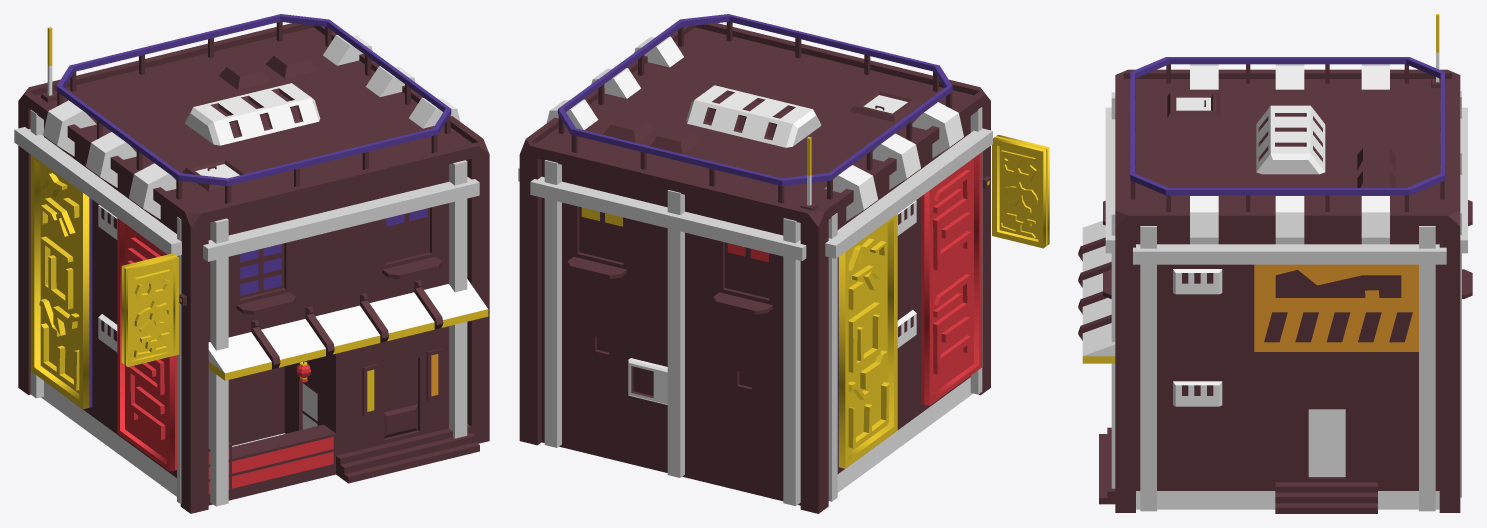
Rendered from ShopCyber.fbx.
The picture shows the model from 3 angles, left to right: view 1: azimuth 30°, elevation 25°; view 2: azimuth 150°, elevation 25°; view 3: azimuth 270°, elevation 25°; orthographic projection.
Parts seen in each view (by area): view 1: scifi-building-shop, scifi-building-shop.009, Cube.005, scifi-building-shop.001, scifi-building-shop.004, scifi-building-shop.003, scifi-building-shop.002, scifi-building-shop.006, scifi-building-shop.005, scifi-building-shop.007, scifi-building-shop.008; view 2: scifi-building-shop.009, scifi-building-shop, Cube.005, scifi-building-shop.004, scifi-building-shop.001, scifi-building-shop.003, scifi-building-shop.005, scifi-building-shop.007, scifi-building-shop.006, scifi-building-shop.008; view 3: scifi-building-shop.009, scifi-building-shop, Cube.005, scifi-building-shop.001, scifi-building-shop.002.
Part boxes in pixels (x1,y1,x2,y2): scifi-building-shop: (18,22,489,513); scifi-building-shop.009: (18,27,489,477); Cube.005: (14,110,479,506); scifi-building-shop.001: (47,14,451,185); scifi-building-shop.004: (39,173,165,439); scifi-building-shop.003: (30,155,89,409); scifi-building-shop.002: (208,280,488,380); scifi-building-shop.006: (240,208,438,411); scifi-building-shop.005: (56,176,174,471); scifi-building-shop.007: (121,253,179,366); scifi-building-shop.008: (133,269,172,357); scifi-building-shop.009: (520,27,990,505); scifi-building-shop: (519,22,1047,513); Cube.005: (518,107,992,506); scifi-building-shop.004: (848,170,970,448); scifi-building-shop.001: (558,14,952,205); scifi-building-shop.003: (838,214,897,468); scifi-building-shop.005: (858,152,981,405); scifi-building-shop.007: (992,134,1049,248); scifi-building-shop.006: (581,207,768,295); scifi-building-shop.008: (1000,150,1038,237); scifi-building-shop.009: (1115,70,1460,490); scifi-building-shop: (1082,64,1472,513); Cube.005: (1105,91,1467,511); scifi-building-shop.001: (1130,14,1444,195); scifi-building-shop.002: (1078,237,1115,363).
Bounding box in the file's own units: 1040 × 975 × 960.
